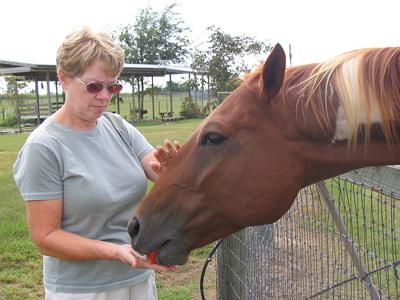person: (18, 28, 177, 299)
